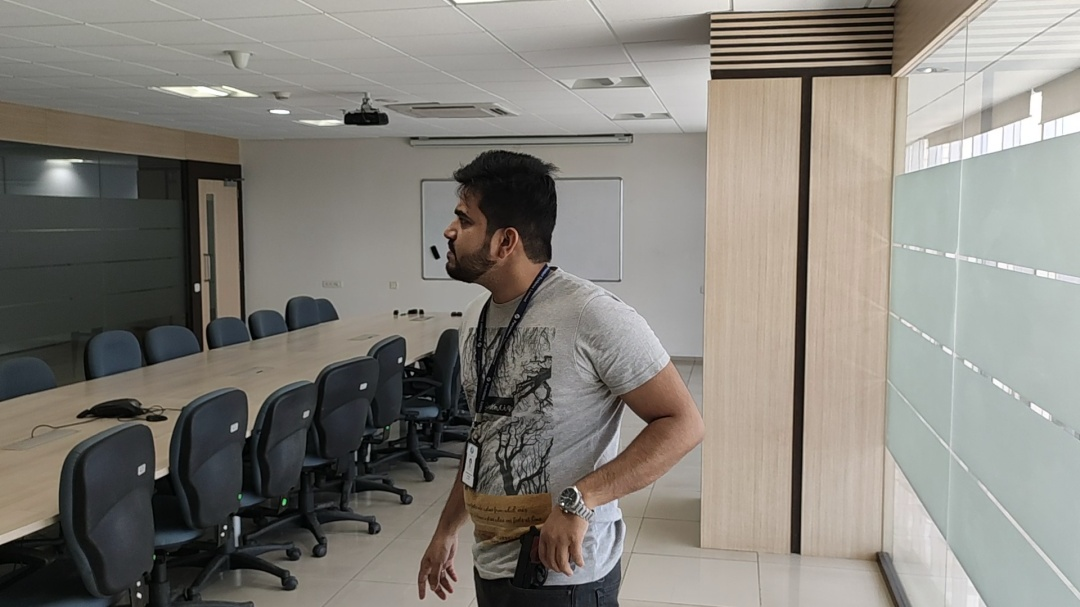gun: (507, 522, 558, 596)
